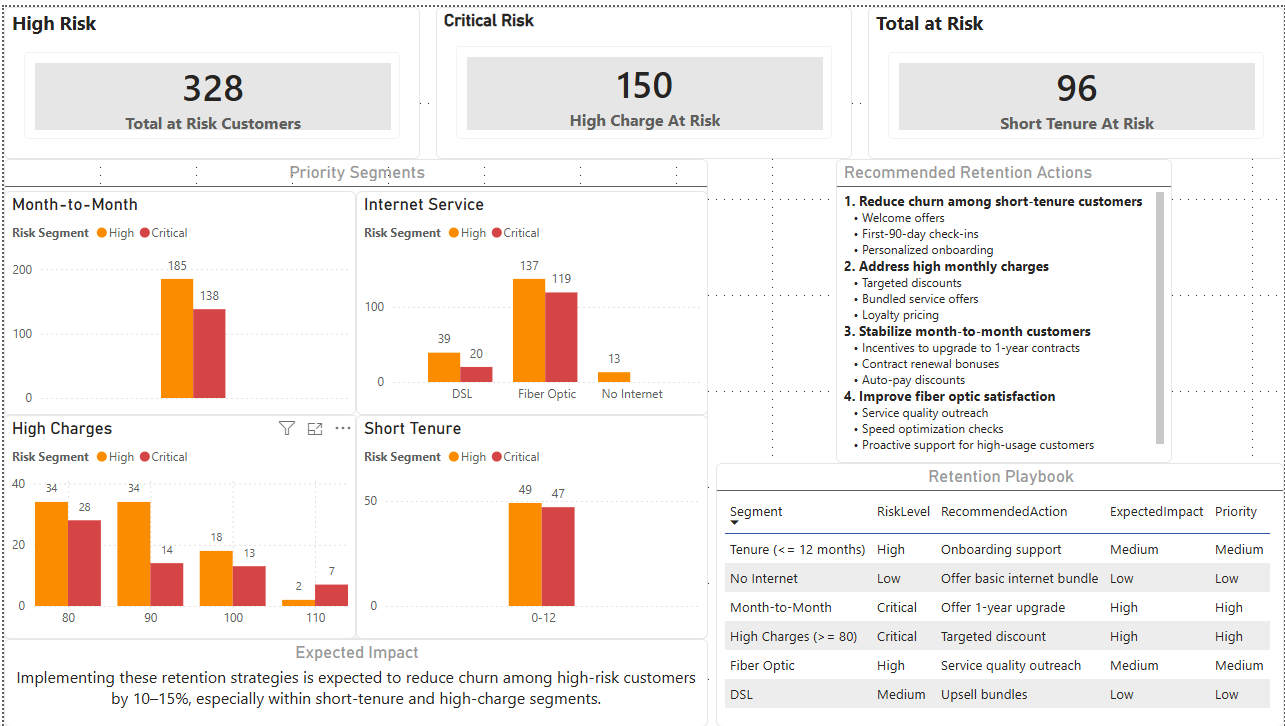

What the dashboard file says about the page in this screenshot:
{"tool":"powerbi","page":{"name":"Retention Strategy","canvas":[1280,720],"ordinal":3},"visuals":[{"type":"shape","title":"Priority Segments","box":[0,152,704,480],"z":0},{"type":"cardVisual","title":"Critical Risk","fields":{"Data":["_Measures.High Charge At Risk"]},"box":[432,0,416,152],"z":1000},{"type":"cardVisual","title":"High Risk","fields":{"Data":["_Measures.Total at Risk Customers"]},"box":[0,0,416,152],"z":2000},{"type":"cardVisual","title":"Total at Risk","fields":{"Data":["_Measures.Short Tenure At Risk"]},"box":[864,0,416,152],"z":3000},{"type":"textbox","title":"Recommended Retention Actions","box":[832,152,336,304],"z":4000},{"type":"tableEx","title":"Retention Playbook","fields":{"Values":["Retention Playbook.Segment","Retention Playbook.RiskLevel","Retention Playbook.RecommendedAction","Retention Playbook.ExpectedImpact","Retention Playbook.Priority"]},"box":[720,456,560,264],"z":5000},{"type":"textbox","title":"Expected Impact","box":[0,632,704,88],"z":6000},{"type":"clusteredColumnChart","title":"Month-to-Month","fields":{"Category":["Telco Churn Dashboard.Contract Type"],"Series":["Telco Churn Dashboard.Risk Segment"],"Y":["_Measures.Total at Risk Customers"]},"box":[0,184,352,224],"z":7000},{"type":"clusteredColumnChart","title":"Internet Service","fields":{"Category":["Telco Churn Dashboard.Internet Service"],"Series":["Telco Churn Dashboard.Risk Segment"],"Y":["_Measures.Total at Risk Customers"]},"box":[352,184,352,224],"z":8000},{"type":"clusteredColumnChart","title":"High Charges","fields":{"Y":["_Measures.Total at Risk Customers"],"Series":["Telco Churn Dashboard.Risk Segment"],"Category":["Telco Churn Dashboard.Monthly Charges (bins)"]},"box":[0,408,352,224],"z":9000},{"type":"clusteredColumnChart","title":"Short Tenure","fields":{"Category":["Telco Churn Dashboard.Tenure Group"],"Series":["Telco Churn Dashboard.Risk Segment"],"Y":["_Measures.Total at Risk Customers"]},"box":[352,408,352,224],"z":10000}]}

Visuals, with their boxes in screenshot pixels (x1, y1, x2, y2), scaled from the page's 1280x720 canvas onto the 1285x726 screenshot:
"Priority Segments" shape: <bbox>0, 153, 707, 637</bbox>
"Critical Risk" cardVisual: <bbox>434, 0, 851, 153</bbox>
"High Risk" cardVisual: <bbox>0, 0, 418, 153</bbox>
"Total at Risk" cardVisual: <bbox>867, 0, 1284, 153</bbox>
"Recommended Retention Actions" textbox: <bbox>835, 153, 1173, 460</bbox>
"Retention Playbook" tableEx: <bbox>723, 460, 1284, 725</bbox>
"Expected Impact" textbox: <bbox>0, 637, 707, 725</bbox>
"Month-to-Month" clusteredColumnChart: <bbox>0, 186, 353, 411</bbox>
"Internet Service" clusteredColumnChart: <bbox>353, 186, 707, 411</bbox>
"High Charges" clusteredColumnChart: <bbox>0, 411, 353, 637</bbox>
"Short Tenure" clusteredColumnChart: <bbox>353, 411, 707, 637</bbox>
